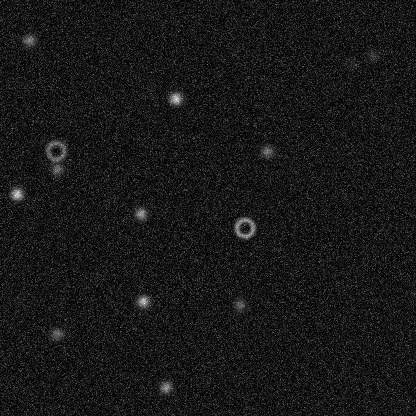Ring: (232, 215, 256, 239), (43, 138, 67, 162)
Spot: (157, 379, 173, 395), (20, 32, 36, 48), (231, 297, 247, 313), (132, 205, 148, 221), (49, 161, 65, 177), (135, 293, 151, 309), (364, 47, 380, 63), (8, 185, 24, 201), (167, 90, 183, 106), (258, 143, 274, 159), (343, 55, 359, 71), (48, 325, 64, 341)
